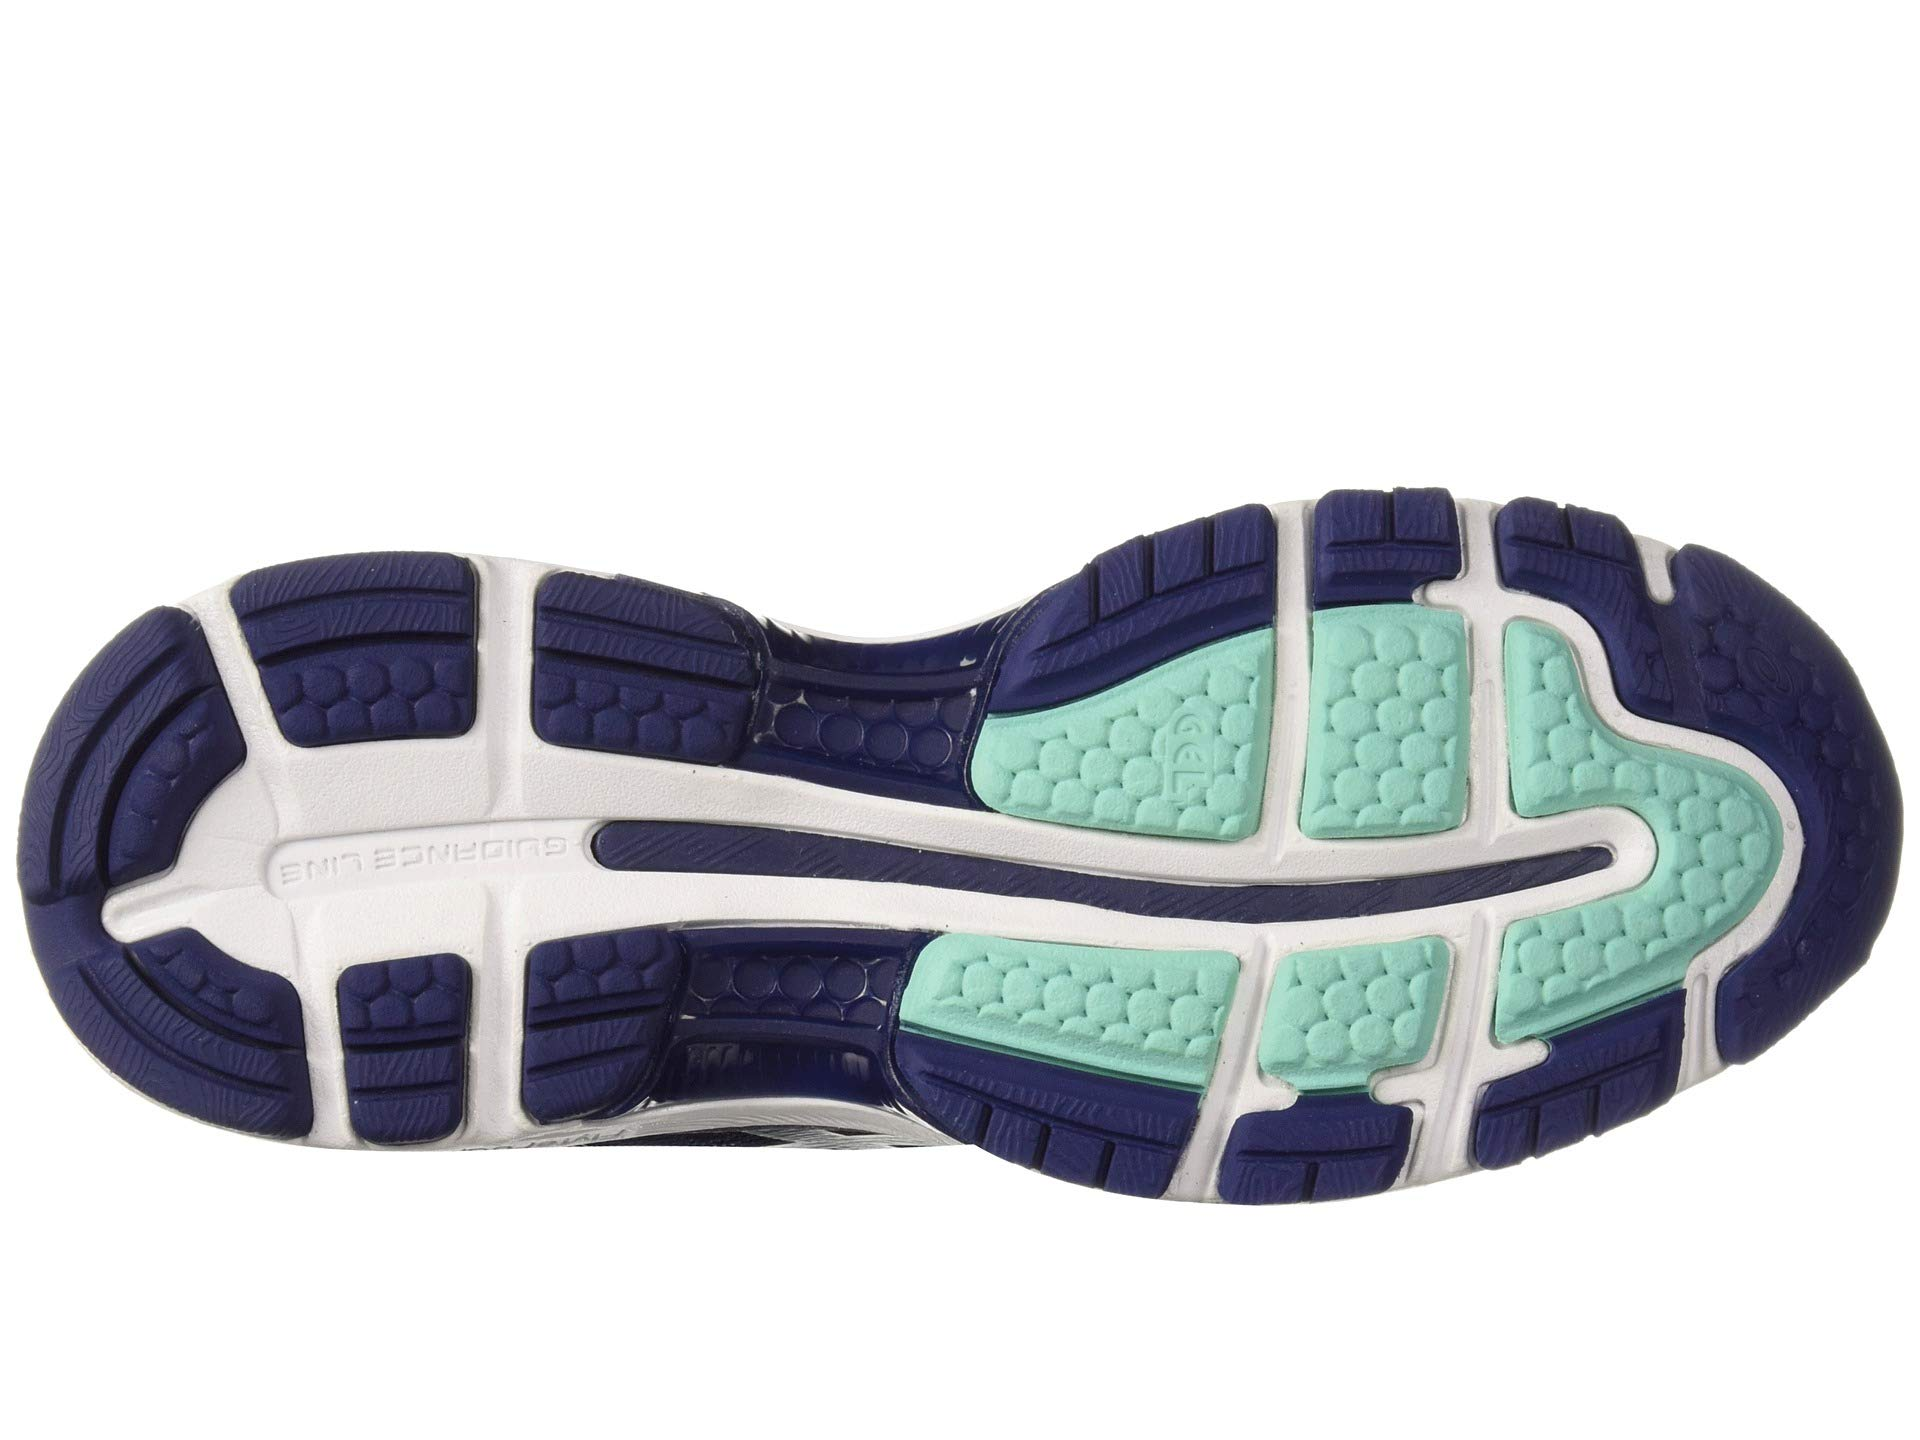circle: (1347, 180, 1485, 375), (1352, 523, 1479, 634), (333, 219, 441, 301), (1110, 286, 1197, 380)
line: (529, 519, 703, 728), (333, 529, 497, 747), (1308, 2, 1497, 154), (1491, 5, 1681, 154), (1513, 594, 1655, 752), (1474, 396, 1544, 469)
polygon: (529, 519, 703, 728), (333, 529, 497, 747)
quad: (529, 519, 703, 728), (333, 529, 497, 747), (1308, 2, 1497, 154), (1491, 5, 1681, 154), (1513, 594, 1655, 752)
text: (1197, 259, 1277, 374), (479, 390, 581, 467), (322, 402, 405, 473)
